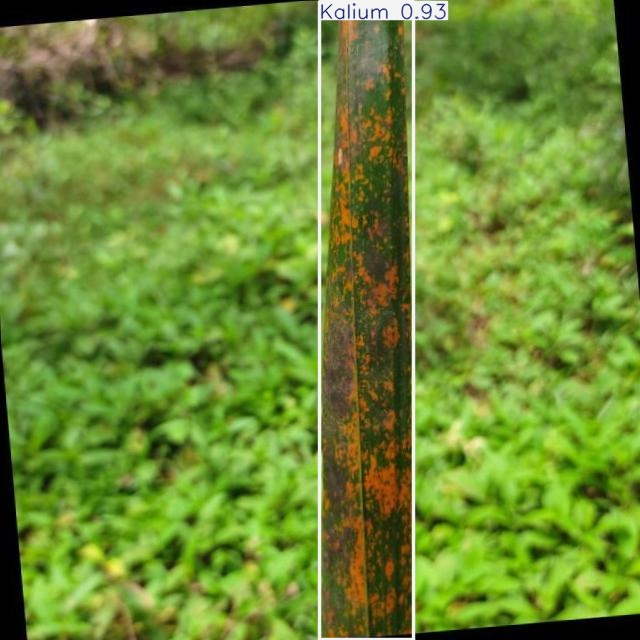Kalium: (320, 1, 414, 640)
